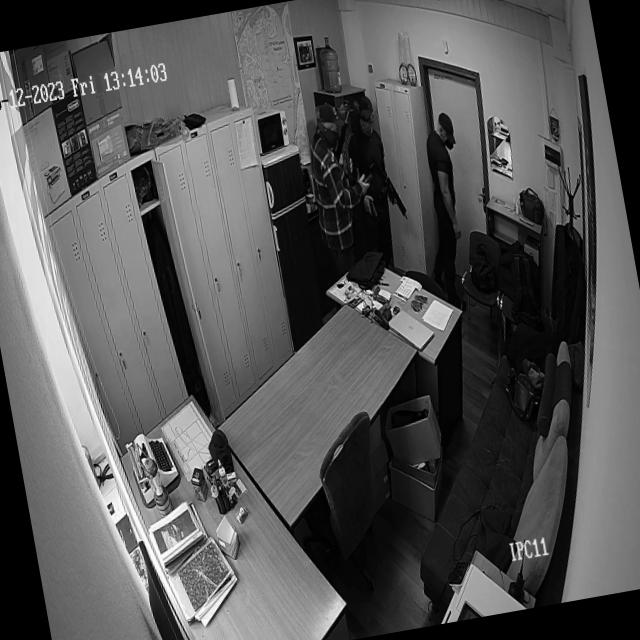gun: (380, 167, 410, 224), (368, 197, 380, 220)
person: (414, 111, 478, 299), (299, 101, 360, 268)
person with a gun: (344, 97, 399, 260)
